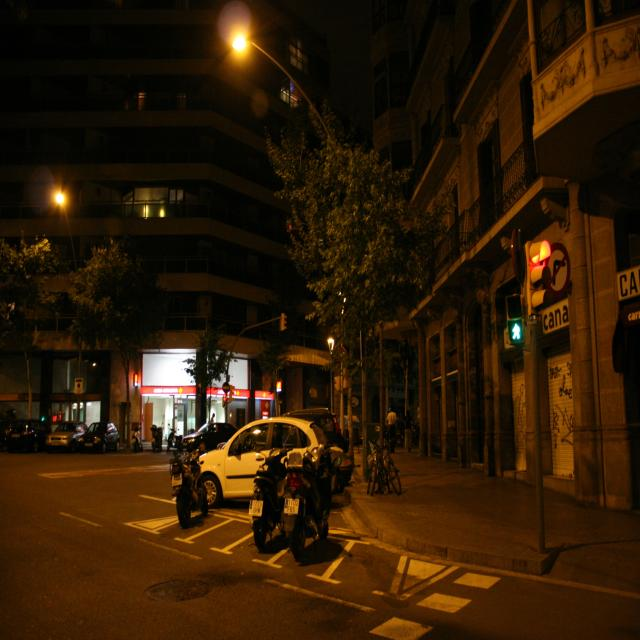Motorbike: (248, 447, 338, 566), (170, 436, 210, 532), (364, 434, 404, 500)
